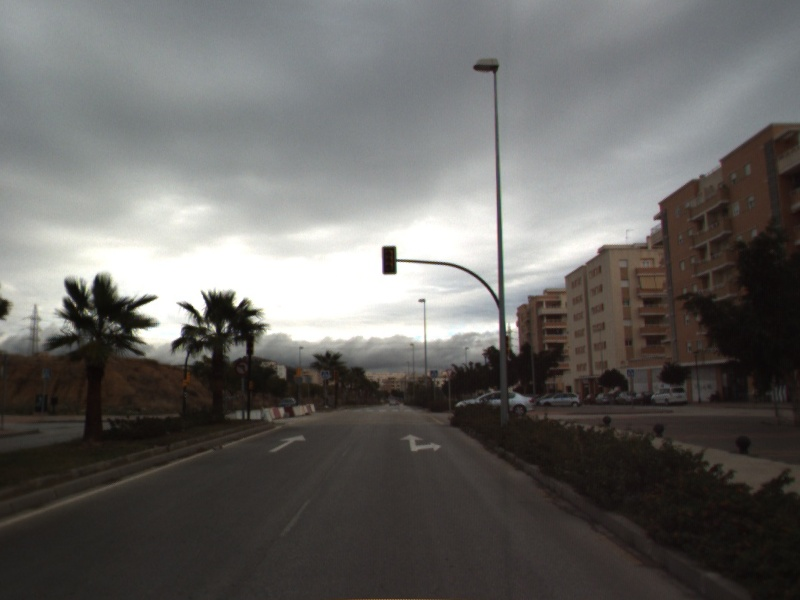STRAIGHT: (267, 433, 308, 454)
STRAIGHT_RIGHT: (398, 432, 444, 453)
